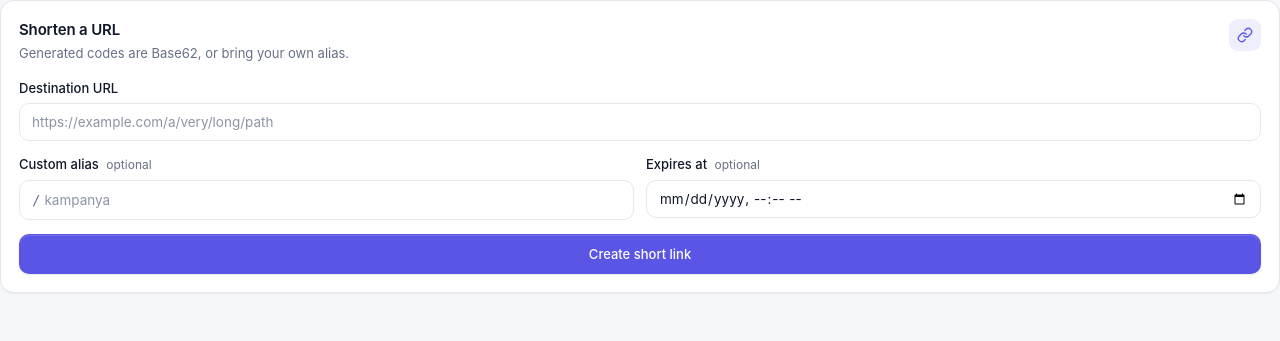
Test: CreateLinkForm › shows the server error message when creation fails
The image size is (1280, 341).
In the field labelled "Destination URL": x=640, y=122 [19,103,1261,141], type "https://example.com"
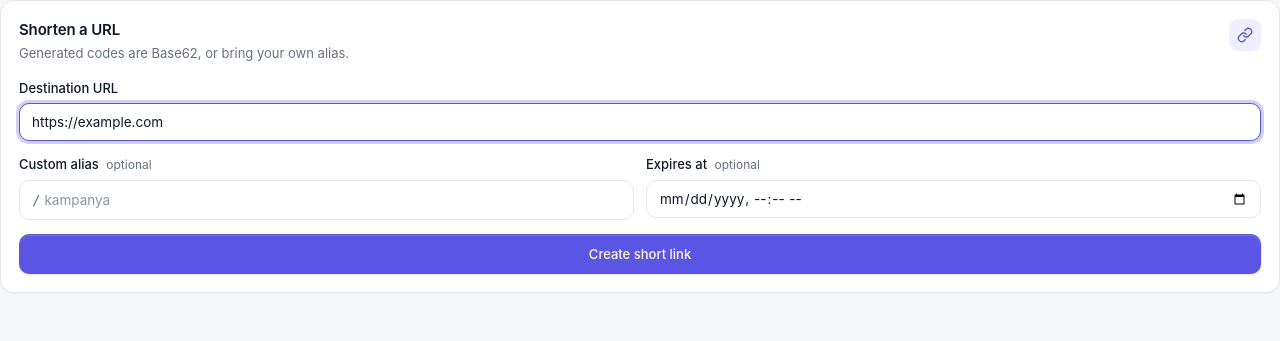
Click the button "Create short link": x=640, y=254 [19,234,1261,274]
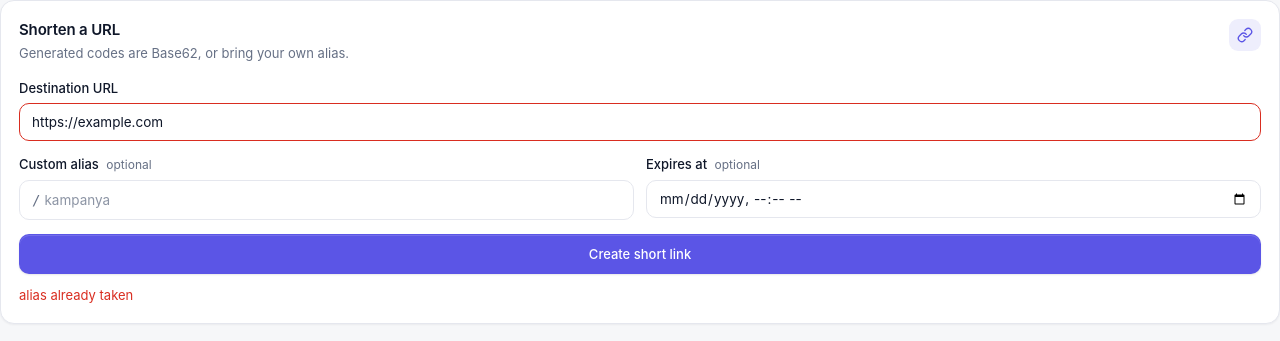
Expected: the message reads "alias already taken", [19,287,133,303]
